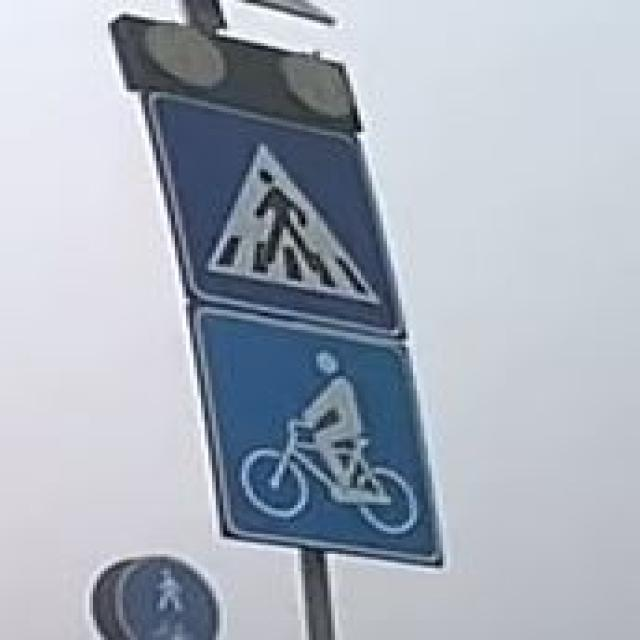Pedestrian crosswalk: (143, 94, 419, 335)
